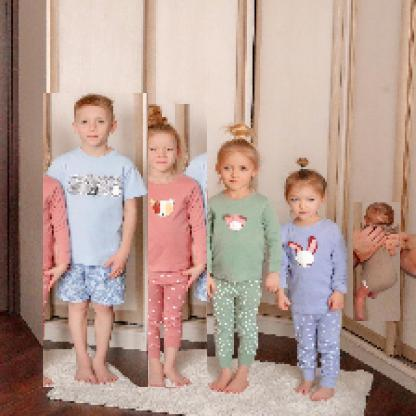child: (45, 94, 151, 389), (124, 105, 209, 389), (198, 126, 284, 397), (276, 157, 349, 401), (354, 203, 402, 323)
